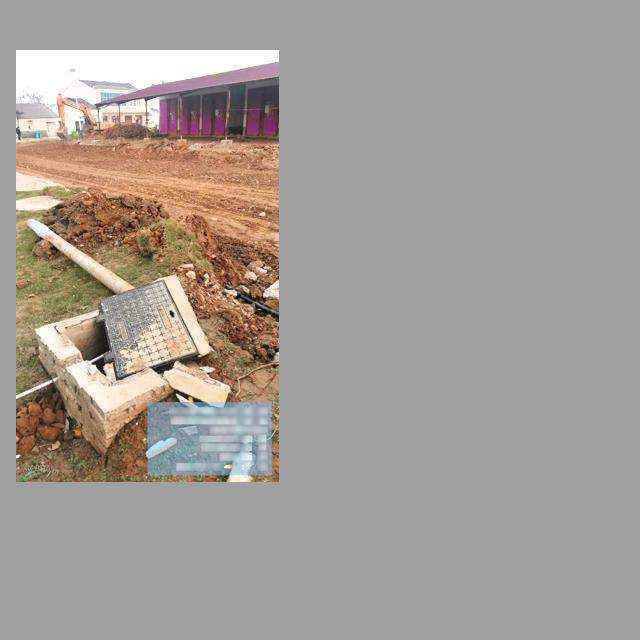circle: (47, 273, 225, 403)
